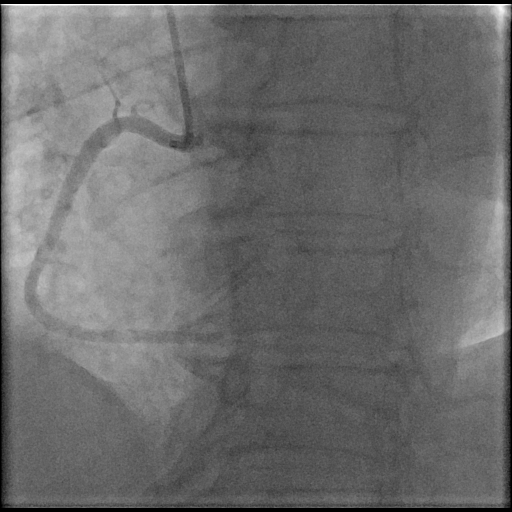RCA: (23, 117, 219, 347)
catherter: (165, 6, 193, 138)
